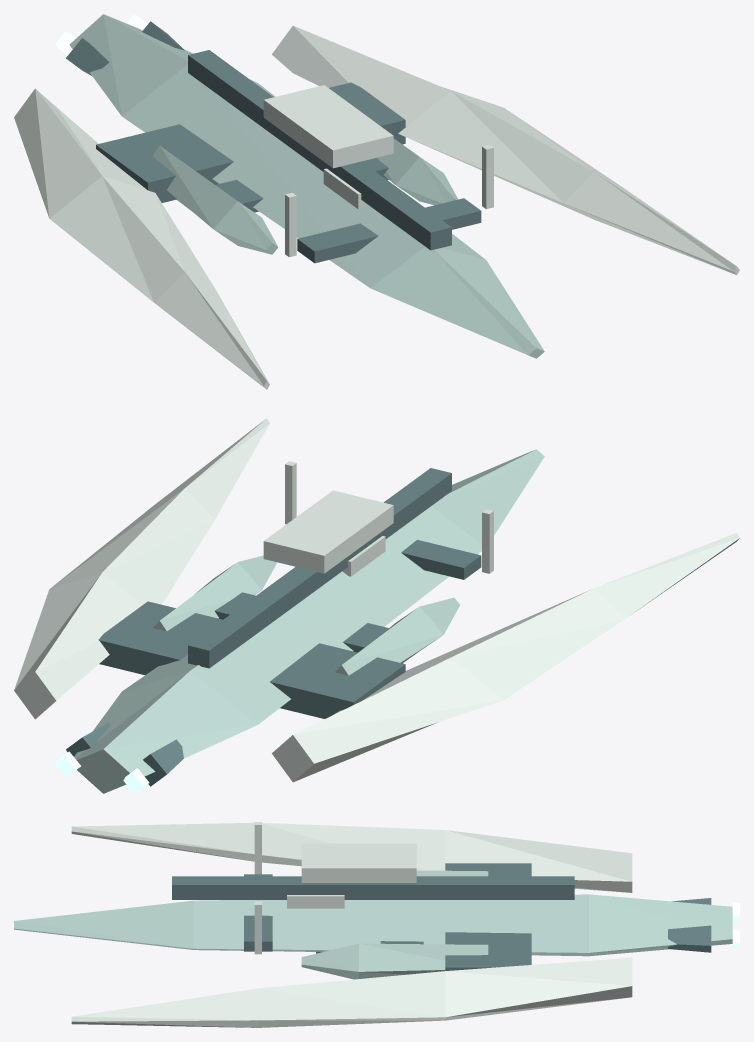
3 views of the same model, one above another, from view 1: azimuth 30°, elevation 25°; view 2: azimuth 150°, elevation 25°; view 3: azimuth 270°, elevation 25° (orthographic). The views are drawn at different scales.
Bounding box in the file's own units: 6.34 × 1.54 × 10.1.
